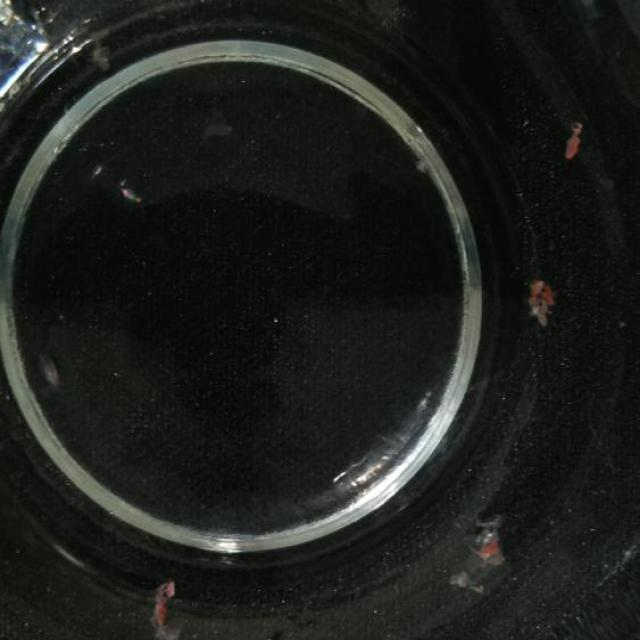fiber: (450, 518, 517, 598), (153, 575, 184, 640), (526, 276, 557, 328), (38, 355, 63, 391), (564, 118, 583, 164), (90, 38, 114, 70), (119, 179, 142, 207)
